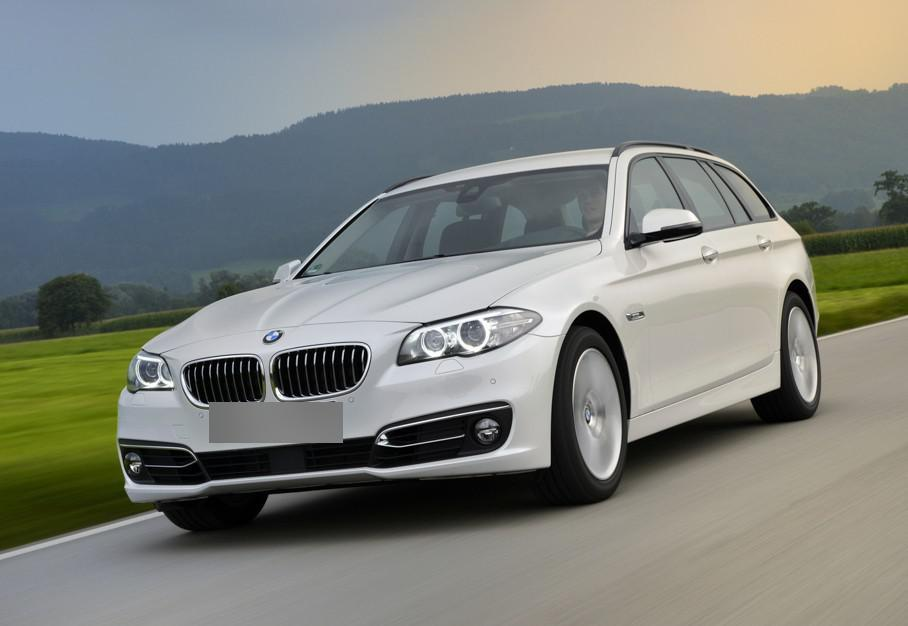Wagon: (115, 139, 822, 531)
